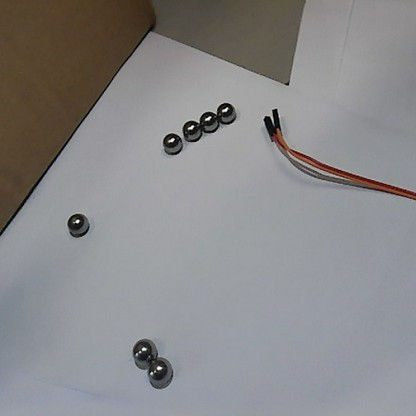ironball: (141, 354, 174, 388), (61, 211, 93, 239), (129, 338, 157, 367), (159, 130, 185, 160), (217, 99, 241, 123), (178, 116, 201, 141), (198, 110, 222, 133)
